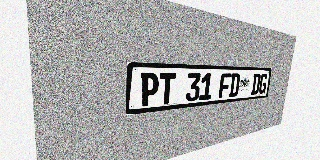1: (199, 73, 213, 100)
3: (185, 73, 201, 102)
D: (229, 73, 241, 97), (251, 74, 261, 95)
F: (218, 73, 231, 98)
G: (258, 74, 268, 94)
P: (140, 73, 159, 107)
T: (158, 73, 176, 105)
